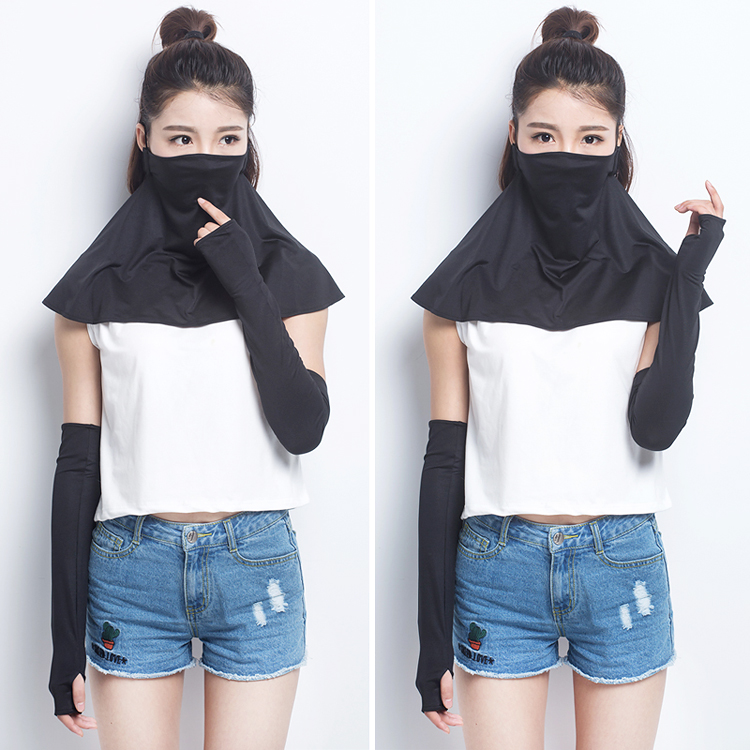face_mask: (148, 84, 250, 218), (516, 82, 617, 216)
